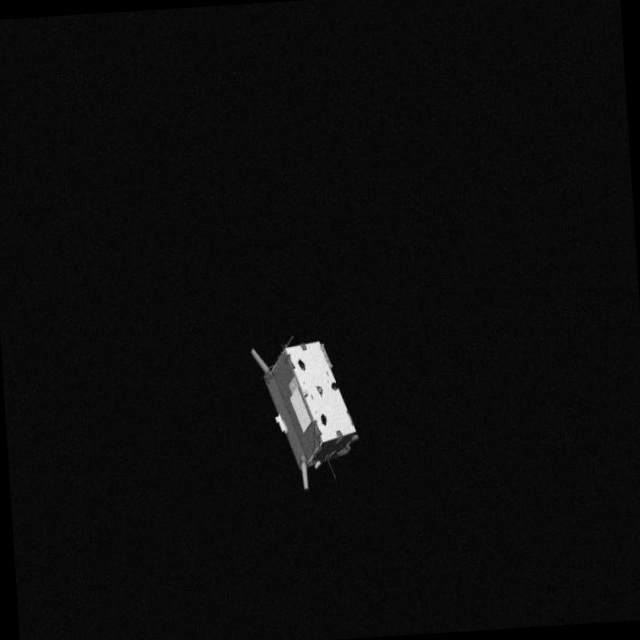satellite: (243, 331, 379, 491)
